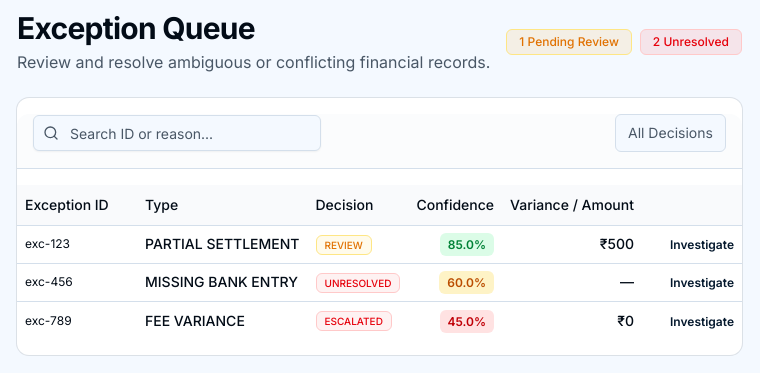
Exceptions Page › filters exceptions by search query (exception type)
Check: the text "exc-123" is shown, box [17,225,137,263]
Type lowercase partial match
Type "missing" into the field with placeholder "Search ID or reason..." at point(177, 133), box [33,115,321,151]
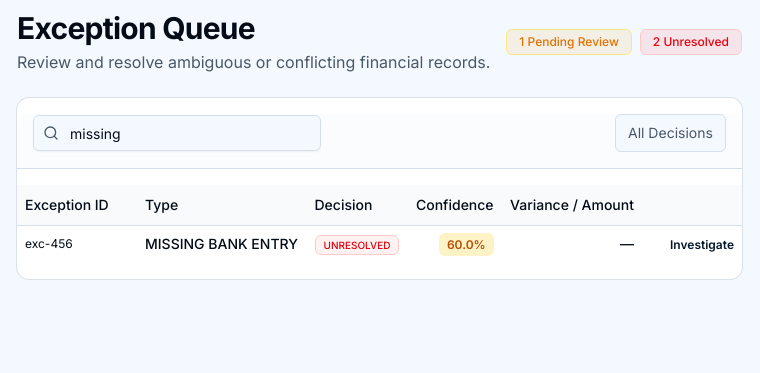
Check: the text "exc-456" is shown, box [17,225,137,263]
Check: the text "exc-123" is gone
Check: the text "exc-789" is gone
